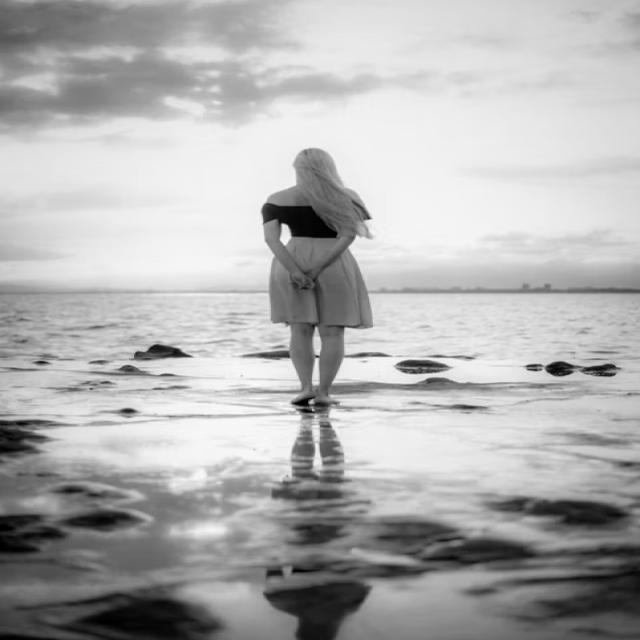Edited images: (240, 120, 428, 453)
